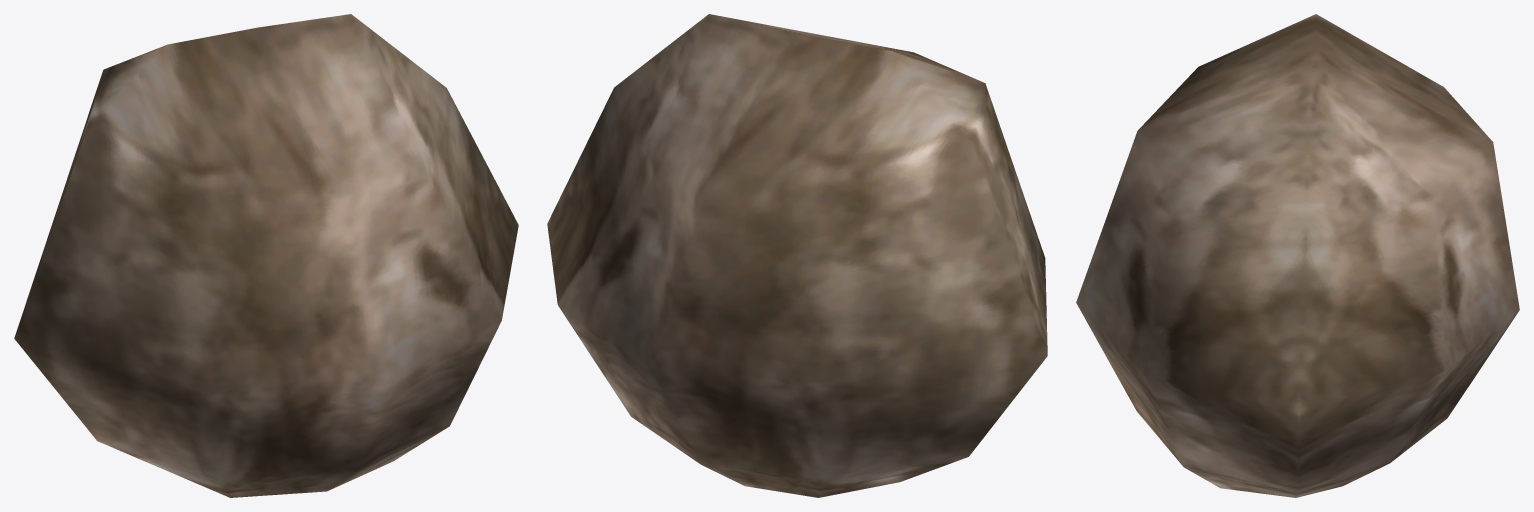
File: OVERHILL_A_01_ROCK96.fbx
3 renders of one model, left to right at view 1: azimuth 30°, elevation 25°; view 2: azimuth 150°, elevation 25°; view 3: azimuth 270°, elevation 25°, orthographic. The views are drawn at different scales.
Parts seen in each view (by area): view 1: OVERHILL_A_01_ROCK96; view 2: OVERHILL_A_01_ROCK96; view 3: OVERHILL_A_01_ROCK96.
Part boxes in pixels (x1,y1,x2,y2): OVERHILL_A_01_ROCK96: [14, 14, 518, 497]; OVERHILL_A_01_ROCK96: [547, 14, 1047, 497]; OVERHILL_A_01_ROCK96: [1076, 14, 1519, 497].
Size of the model in its own units: 14600 by 11903 by 12132.
1 material, 1 textured.
